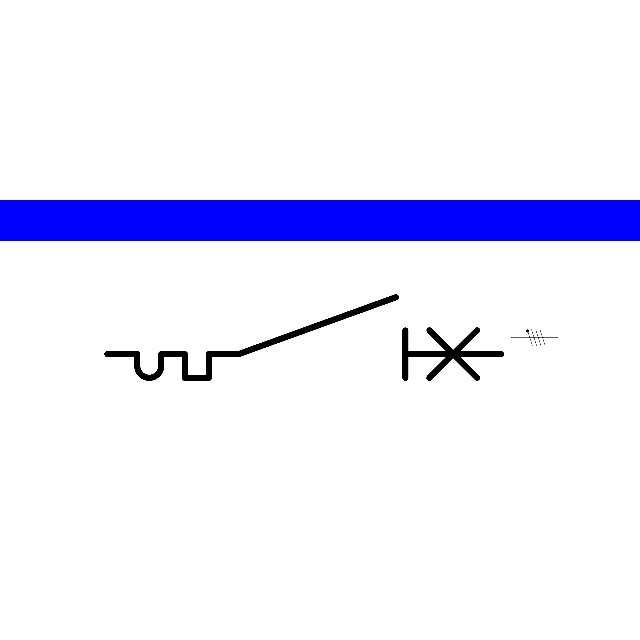interruptor_termomagnetico: (97, 287, 511, 388)
